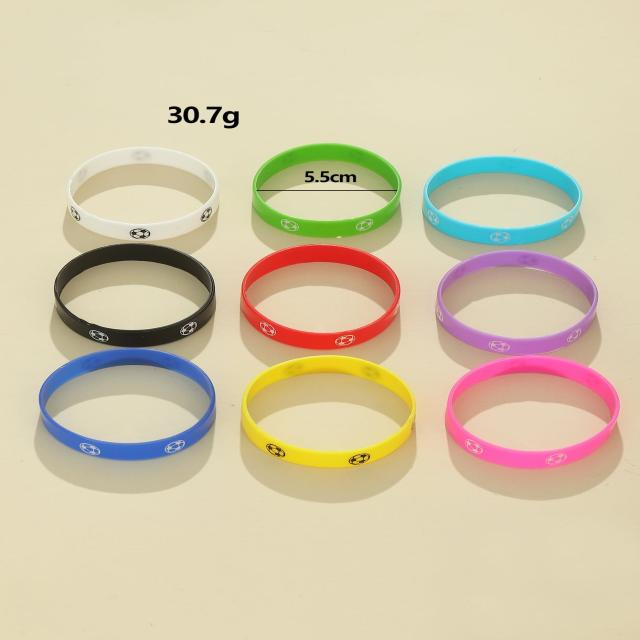bracelet: (215, 337, 460, 502), (377, 92, 640, 238), (13, 337, 238, 500), (245, 62, 423, 246), (40, 121, 251, 253), (432, 348, 615, 498), (414, 242, 640, 358), (35, 219, 223, 341), (236, 255, 441, 354)
